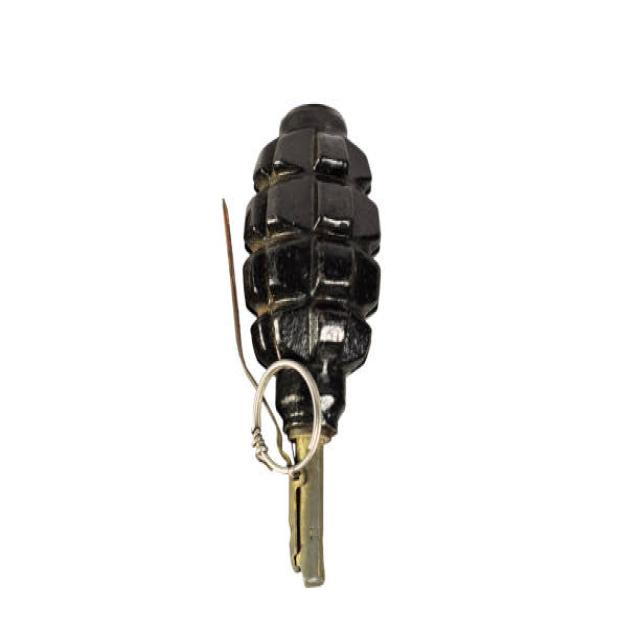grenade: (215, 96, 384, 599)
